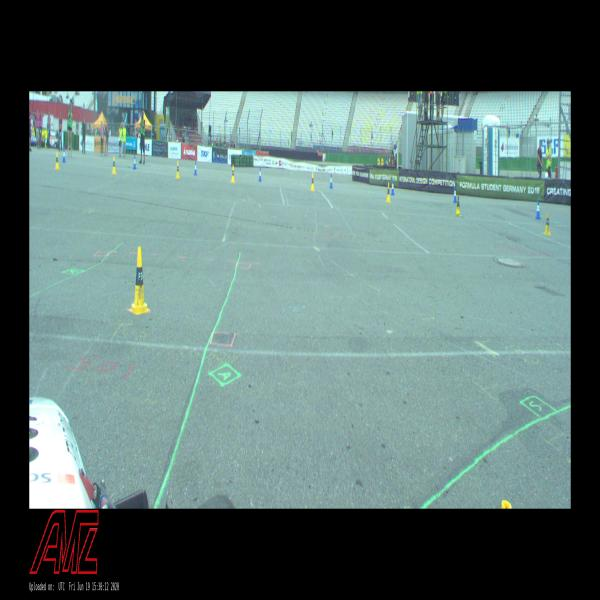blue_cone: (536, 200, 540, 218), (453, 187, 457, 203), (132, 155, 136, 170), (391, 180, 395, 195), (258, 167, 262, 181), (62, 148, 66, 162), (194, 160, 197, 175), (330, 173, 332, 188)
yellow_cone: (130, 248, 150, 314), (544, 210, 551, 235), (386, 183, 391, 202), (55, 151, 60, 170), (456, 194, 460, 216), (112, 156, 116, 175), (176, 160, 180, 179), (231, 166, 235, 183), (311, 173, 314, 191)
